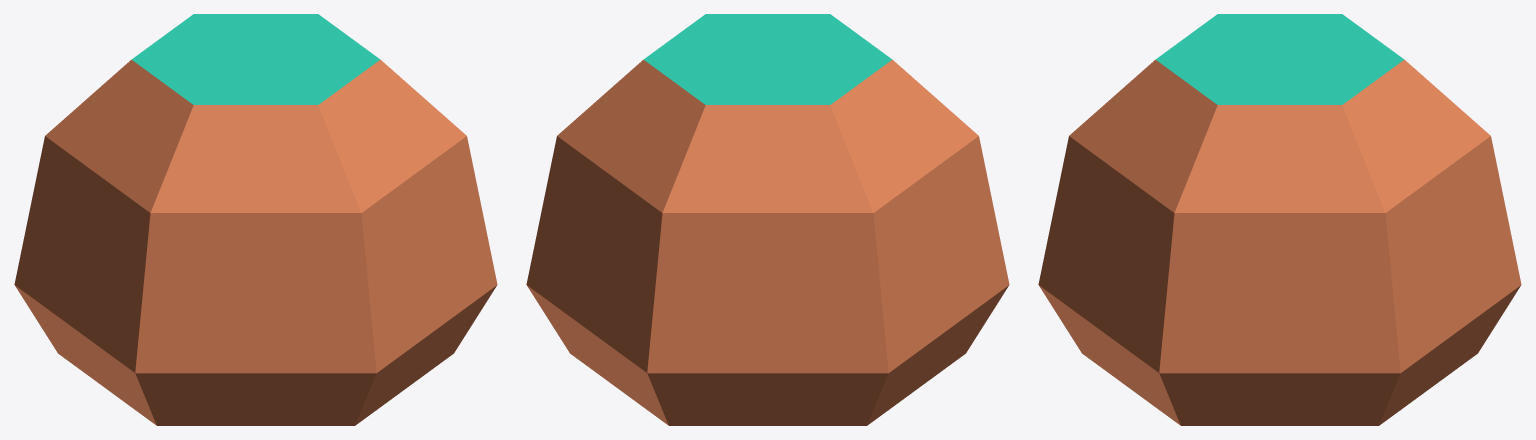
Rendered from rock_smallI.dae.
3 renders of one model, left to right at view 1: azimuth 30°, elevation 25°; view 2: azimuth 150°, elevation 25°; view 3: azimuth 270°, elevation 25°, orthographic.
Visible parts, largest first — view 1: rock_smallI; view 2: rock_smallI; view 3: rock_smallI.
Boxes of the visible parts, x1,y1,x2,y2 form: rock_smallI: (14, 14, 497, 425); rock_smallI: (526, 14, 1009, 425); rock_smallI: (1038, 14, 1521, 425).
Bounding box in the file's own units: 0.3583 × 0.2778 × 0.4138.
